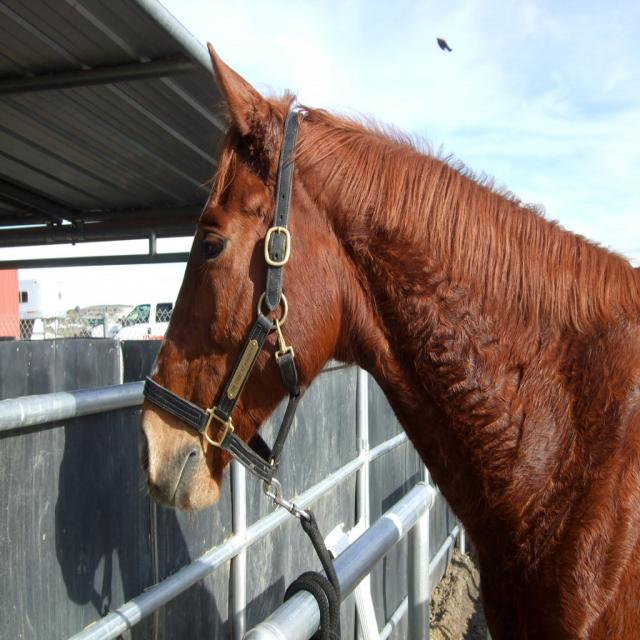Horse: (139, 45, 637, 640)
